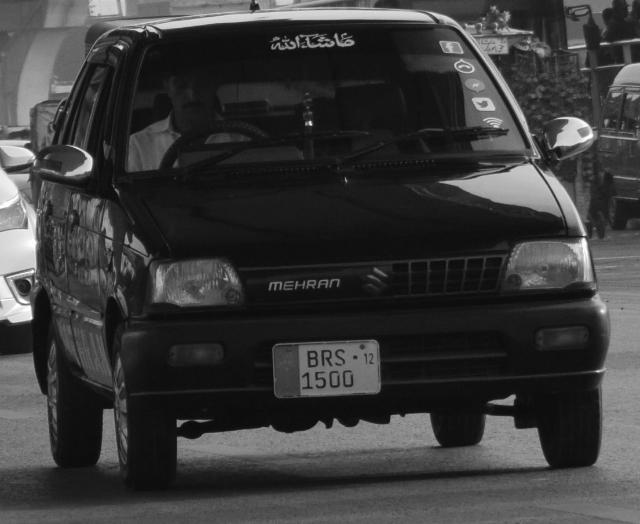Number: (301, 348, 357, 390)
